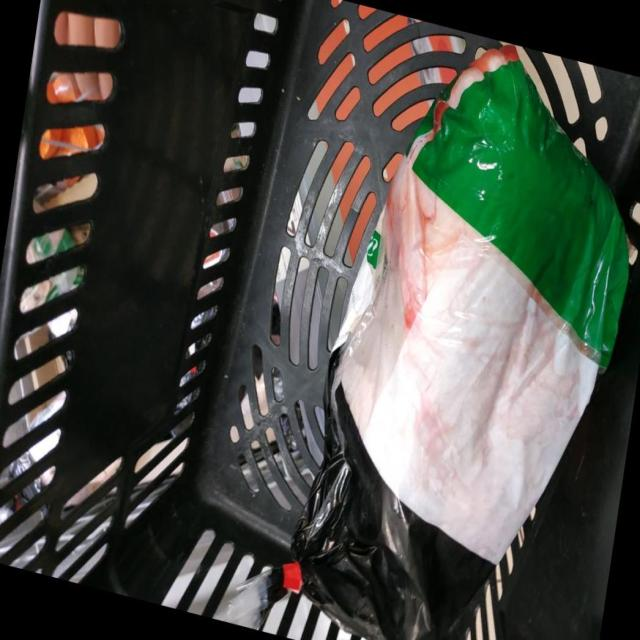Meat: (216, 45, 628, 640)
